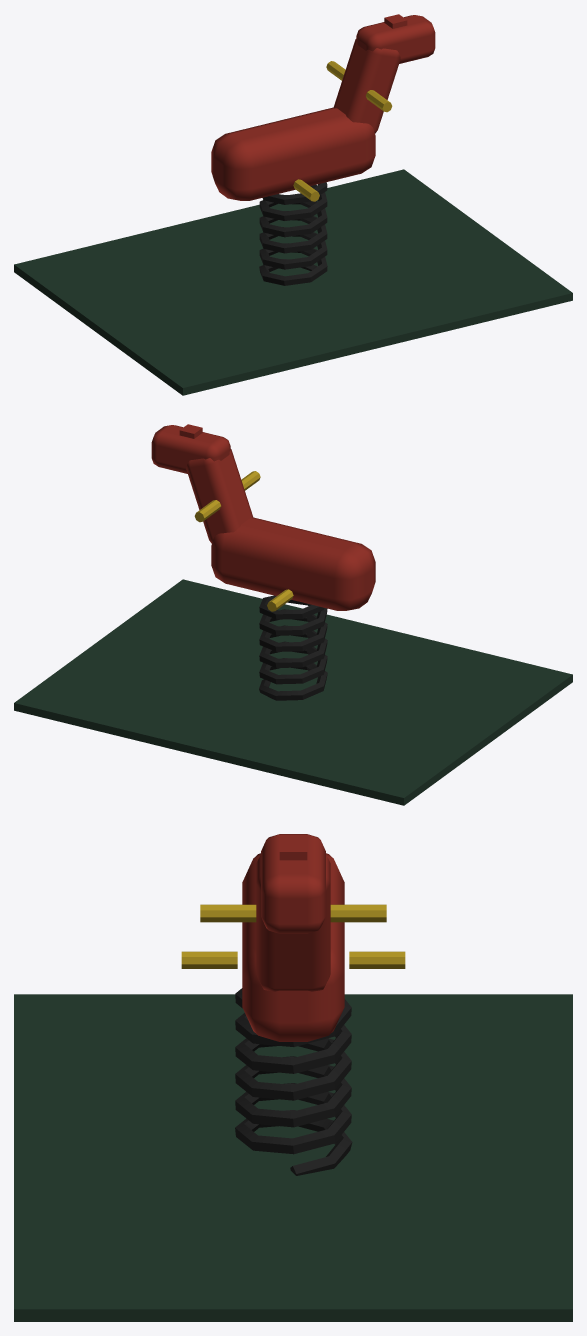
Rendered from SM_Prop_play_springer_0.glb.
3 renders of one model, top to bottom at view 1: azimuth 30°, elevation 25°; view 2: azimuth 150°, elevation 25°; view 3: azimuth 270°, elevation 25°, orthographic. The views are drawn at different scales.
Parts seen in each view (by area): view 1: SM_Prop_play_springer_0; view 2: SM_Prop_play_springer_0; view 3: SM_Prop_play_springer_0.
Boxes of the visible parts, x1=… form: SM_Prop_play_springer_0: x1=14, y1=14, x2=572, y2=395; SM_Prop_play_springer_0: x1=14, y1=424, x2=572, y2=805; SM_Prop_play_springer_0: x1=14, y1=834, x2=572, y2=1321.
Size of the model in its own units: 1.6 by 0.95 by 1.2.
